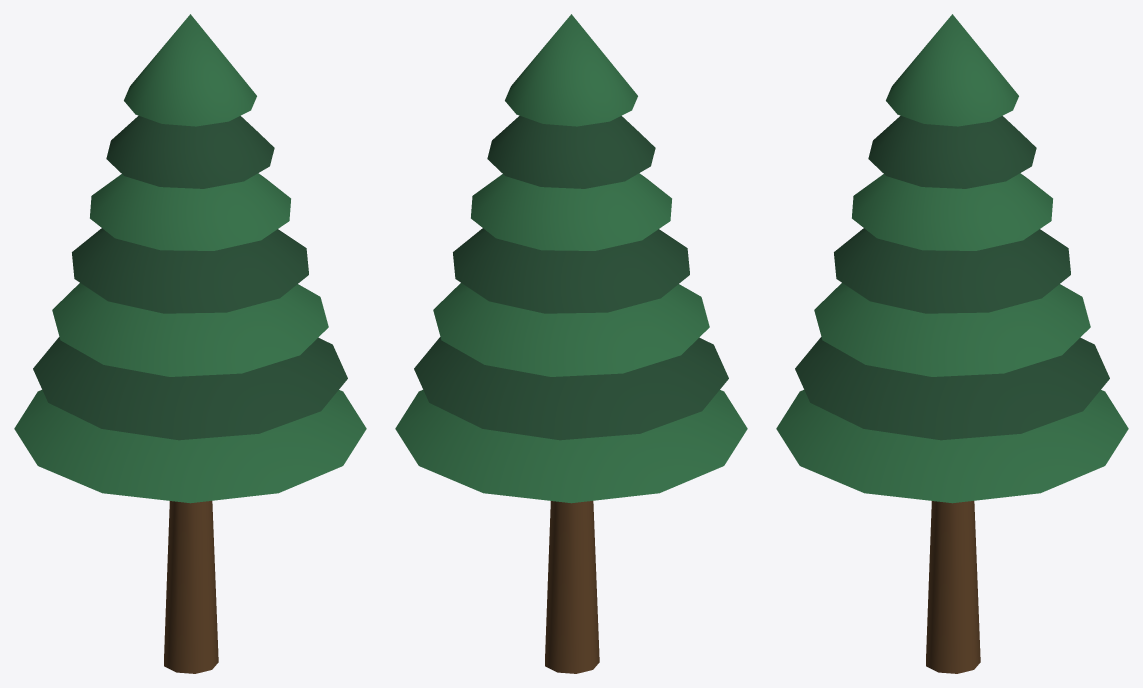
The model's file is arbre_foret_1.glb.
3 renders of one model, left to right at view 1: azimuth 30°, elevation 25°; view 2: azimuth 150°, elevation 25°; view 3: azimuth 270°, elevation 25°, orthographic.
Visible parts, largest first — view 1: pin_etage_0.002, pin_etage_1.002, pin_etage_2.002, pin_etage_3.002, pin_etage_4.002, pin_etage_5.001, pin_etage_6.001, pin_tronc.002; view 2: pin_etage_0.002, pin_etage_1.002, pin_etage_2.002, pin_etage_3.002, pin_etage_4.002, pin_etage_5.001, pin_etage_6.001, pin_tronc.002; view 3: pin_etage_0.002, pin_etage_1.002, pin_etage_2.002, pin_etage_3.002, pin_etage_4.002, pin_etage_5.001, pin_etage_6.001, pin_tronc.002.
Part boxes in pixels (bbox=[...]): pin_etage_0.002: bbox=[14, 390, 366, 503]; pin_etage_1.002: bbox=[33, 337, 347, 440]; pin_etage_2.002: bbox=[52, 283, 328, 376]; pin_etage_3.002: bbox=[72, 228, 308, 313]; pin_etage_4.002: bbox=[90, 173, 290, 250]; pin_etage_5.001: bbox=[106, 115, 274, 188]; pin_etage_6.001: bbox=[124, 14, 256, 126]; pin_tronc.002: bbox=[164, 501, 218, 673]; pin_etage_0.002: bbox=[395, 390, 747, 503]; pin_etage_1.002: bbox=[414, 337, 728, 440]; pin_etage_2.002: bbox=[433, 283, 709, 376]; pin_etage_3.002: bbox=[453, 228, 689, 313]; pin_etage_4.002: bbox=[471, 173, 671, 250]; pin_etage_5.001: bbox=[487, 115, 655, 188]; pin_etage_6.001: bbox=[505, 14, 637, 126]; pin_tronc.002: bbox=[545, 501, 599, 673]; pin_etage_0.002: bbox=[776, 390, 1128, 503]; pin_etage_1.002: bbox=[795, 337, 1109, 440]; pin_etage_2.002: bbox=[814, 283, 1090, 376]; pin_etage_3.002: bbox=[834, 228, 1070, 313]; pin_etage_4.002: bbox=[852, 173, 1052, 250]; pin_etage_5.001: bbox=[868, 115, 1036, 188]; pin_etage_6.001: bbox=[886, 14, 1018, 126]; pin_tronc.002: bbox=[926, 501, 980, 673].
Bounding box in the file's own units: 2.6 × 5.27 × 2.6.
